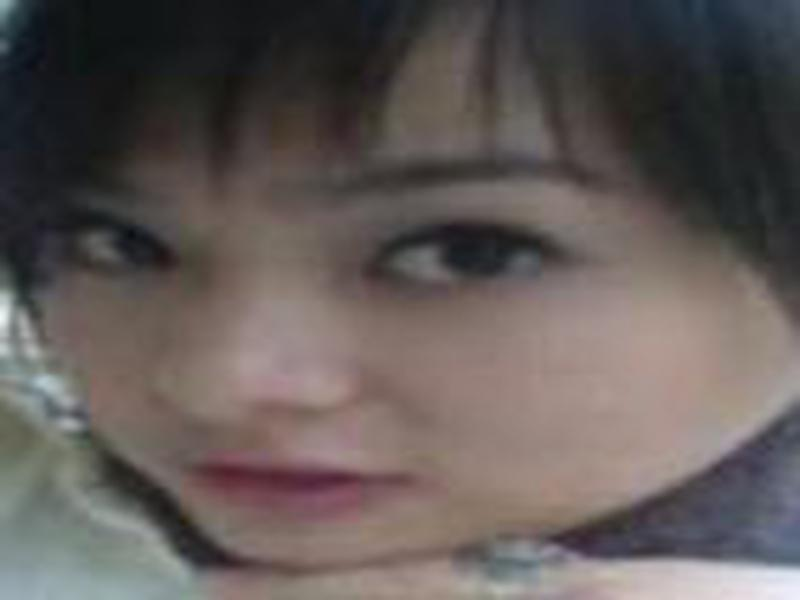without_mask: (27, 108, 780, 565)
